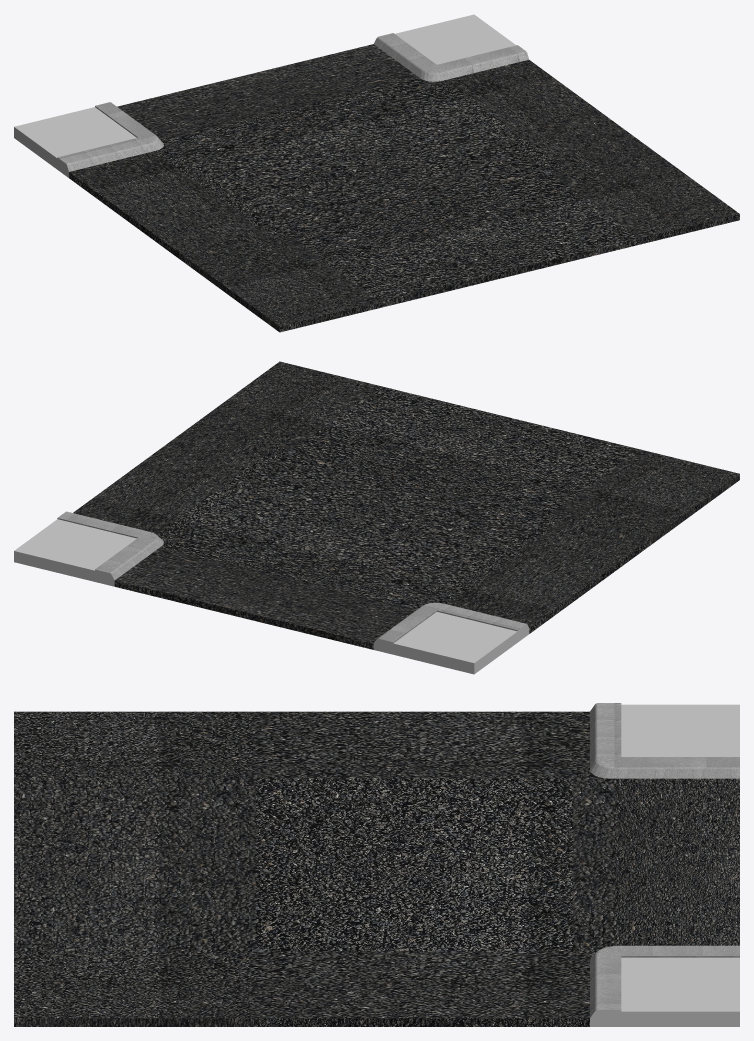
The model's file is tile7.fbx.
The picture shows the model from 3 angles, top to bottom: view 1: azimuth 30°, elevation 25°; view 2: azimuth 150°, elevation 25°; view 3: azimuth 270°, elevation 25°; orthographic projection. The views are drawn at different scales.
Parts seen in each view (by area): view 1: Cube; view 2: Cube; view 3: Cube.
Part boxes in pixels (bbox=[...]): Cube: bbox=[14, 14, 739, 332]; Cube: bbox=[14, 361, 739, 674]; Cube: bbox=[14, 703, 739, 1026].
Size of the model in its own units: 600 by 15.53 by 600.
